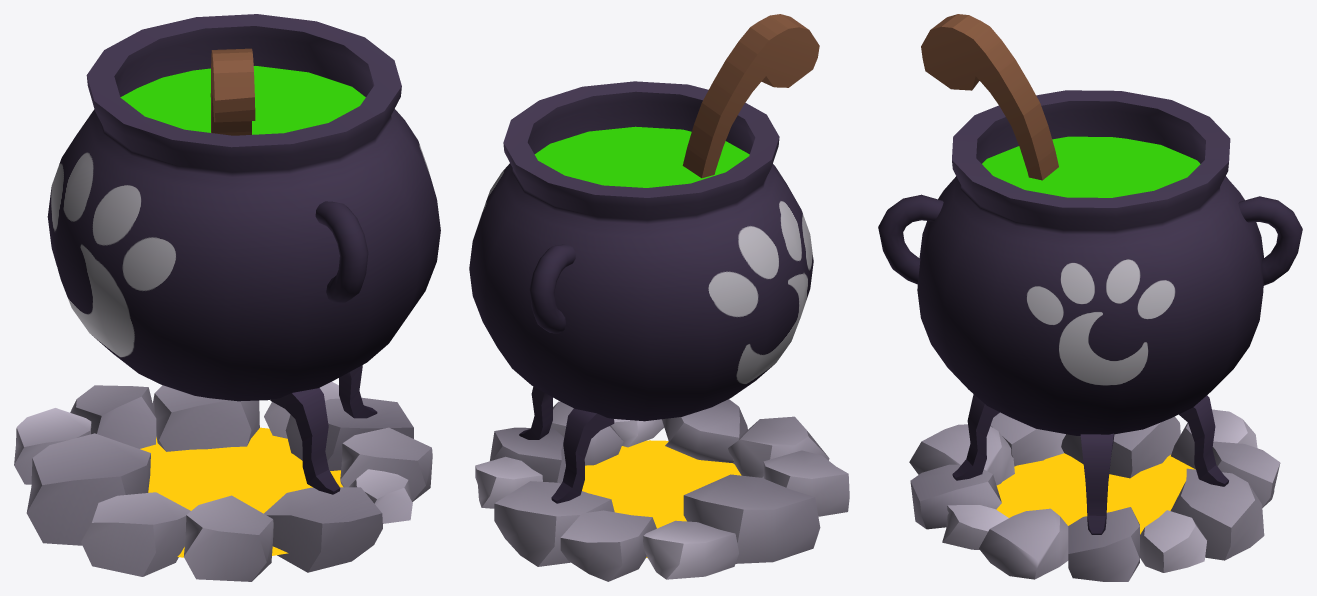
The model's file is Caldero_v3.fbx.
3 renders of one model, left to right at view 1: azimuth 30°, elevation 25°; view 2: azimuth 150°, elevation 25°; view 3: azimuth 270°, elevation 25°, orthographic. The views are drawn at different scales.
Parts seen in each view (by area): view 1: Caldero1, Brebaje1, Piedra2, Fuego, Piedra7, Piedra3, Piedra4, Piedra9, Piedra5, Piedra8, Cuchara, Piedra11 (+6 smaller); view 2: Caldero1, Cuchara, Piedra2, Brebaje1, Fuego, Piedra9, Piedra8, Piedra1, Piedra7, Piedra3, Piedra4, Piedra11 (+6 smaller); view 3: Caldero1, Cuchara, Brebaje1, Fuego, Piedra9, Piedra5, Piedra11, Piedra7, Piedra2, Piedra10, Piedra4, Manija1 (+8 smaller).
Part boxes in pixels (x1,y1,x2,y2): Caldero1: (47, 14, 440, 401); Brebaje1: (120, 66, 365, 134); Piedra2: (26, 433, 150, 545); Fuego: (140, 427, 342, 557); Piedra7: (264, 487, 382, 572); Piedra3: (81, 492, 190, 576); Piedra4: (183, 495, 273, 581); Piedra9: (152, 385, 259, 451); Piedra5: (340, 427, 432, 501); Piedra8: (70, 385, 156, 448); Cuchara: (210, 48, 255, 135); Piedra11: (285, 397, 413, 470); Caldero1: (469, 81, 813, 421); Cuchara: (682, 14, 819, 178); Piedra2: (683, 474, 820, 563); Brebaje1: (534, 126, 749, 187); Fuego: (582, 440, 741, 557); Piedra9: (494, 481, 614, 566); Piedra8: (560, 510, 656, 581); Piedra1: (643, 520, 738, 579); Piedra7: (662, 399, 747, 462); Piedra3: (763, 450, 849, 516); Piedra4: (728, 416, 829, 478); Piedra11: (490, 427, 565, 483); Caldero1: (917, 90, 1263, 435); Cuchara: (921, 14, 1058, 180); Brebaje1: (982, 136, 1200, 197); Fuego: (996, 453, 1195, 534); Piedra9: (1170, 468, 1264, 560); Piedra5: (979, 508, 1068, 579); Piedra11: (1068, 507, 1139, 581); Piedra7: (910, 464, 1001, 529); Piedra2: (1061, 416, 1180, 478); Piedra10: (1140, 510, 1206, 572); Piedra4: (909, 424, 1014, 485); Manija1: (878, 194, 943, 284).
Size of the model in its own units: 2.02 by 2.67 by 2.2.
